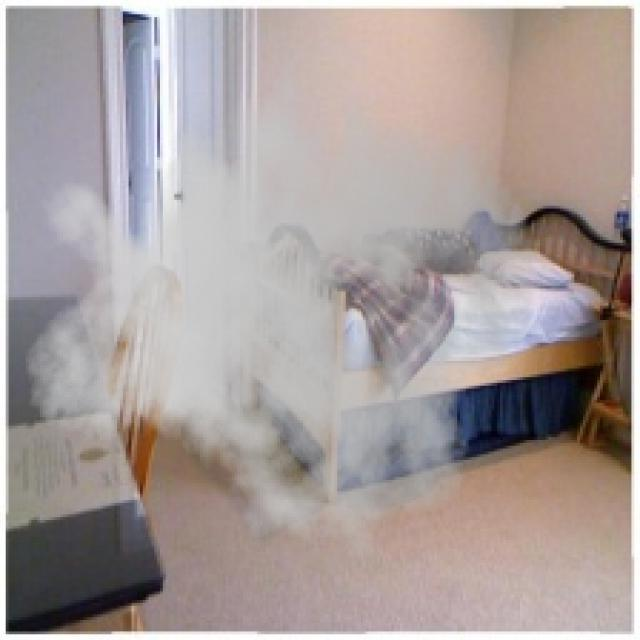Smoke: (22, 39, 538, 572)
